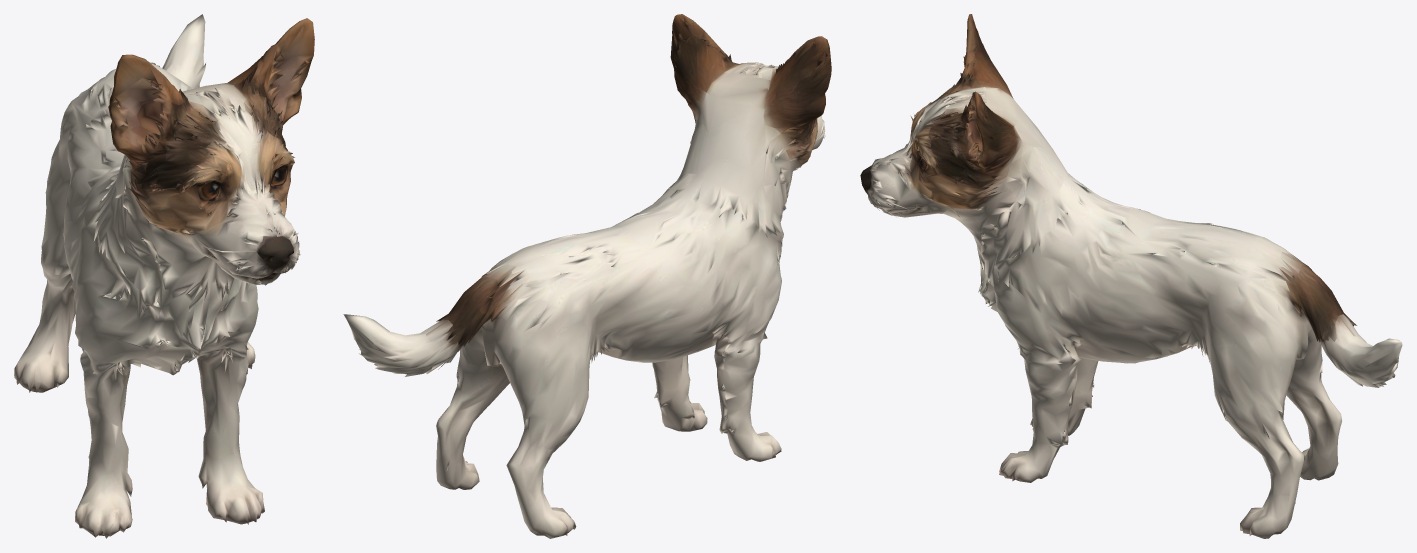
The model's file is laika.glb.
The picture shows the model from 3 angles, left to right: view 1: azimuth 30°, elevation 25°; view 2: azimuth 150°, elevation 25°; view 3: azimuth 270°, elevation 25°; orthographic projection. The views are drawn at different scales.
Visible parts, largest first — view 1: tripo_node_eb930e15-b1e8-4295-8f58-5e27b4e19673; view 2: tripo_node_eb930e15-b1e8-4295-8f58-5e27b4e19673; view 3: tripo_node_eb930e15-b1e8-4295-8f58-5e27b4e19673.
Part boxes in pixels (left/top/right/bottom): tripo_node_eb930e15-b1e8-4295-8f58-5e27b4e19673: left=14, top=14, right=314, bottom=538; tripo_node_eb930e15-b1e8-4295-8f58-5e27b4e19673: left=343, top=14, right=831, bottom=538; tripo_node_eb930e15-b1e8-4295-8f58-5e27b4e19673: left=860, top=14, right=1402, bottom=538.
Size of the model in its own units: 0.6095 by 0.8296 by 0.9987.
Materials: 1 (1 with a texture image).
